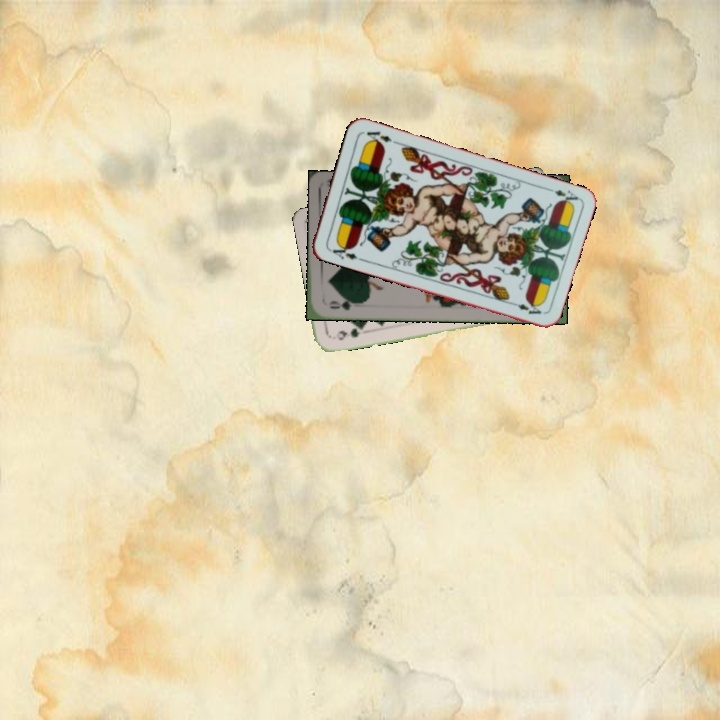EA: (542, 183, 581, 208), (324, 239, 364, 263)
G9: (332, 325, 363, 343)
GO: (325, 296, 362, 313)
